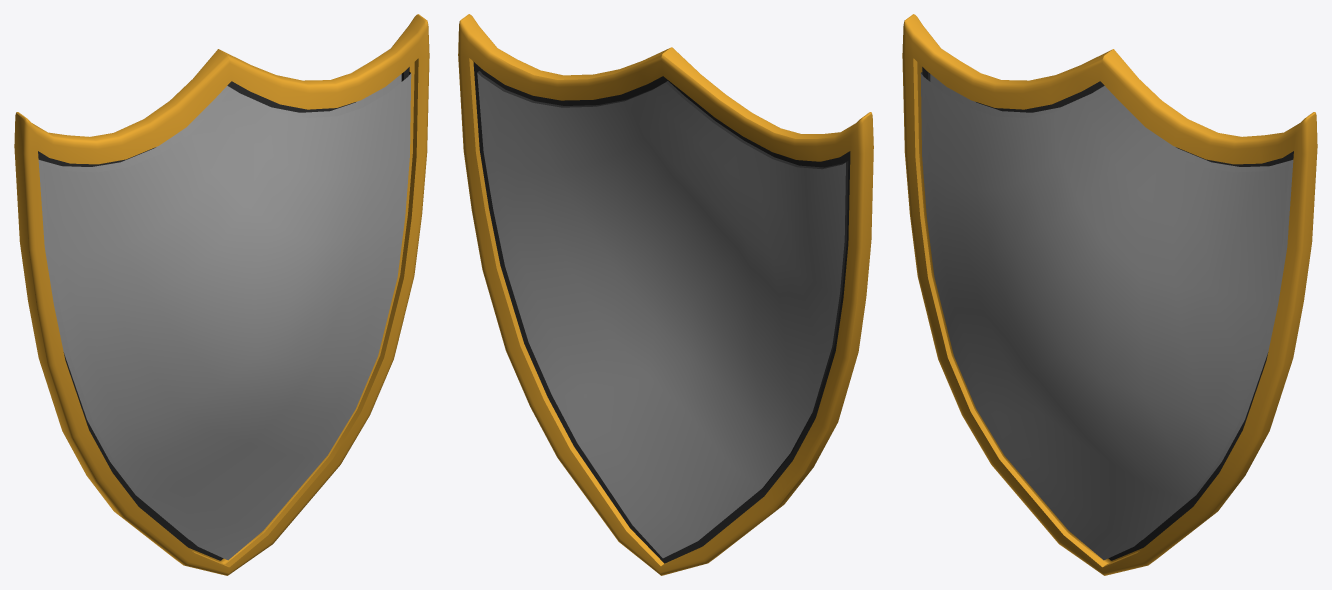
Rendered from Sheild.fbx.
The picture shows the model from 3 angles, left to right: view 1: azimuth 30°, elevation 25°; view 2: azimuth 150°, elevation 25°; view 3: azimuth 330°, elevation 25°; orthographic projection.
Visible parts, largest first — view 1: Cube; view 2: Cube; view 3: Cube.
Part boxes in pixels (x1,y1,x2,y2): Cube: [14, 14, 429, 575]; Cube: [458, 14, 873, 575]; Cube: [902, 14, 1317, 575].
Bounding box in the file's own units: 253 × 311 × 48.94.
